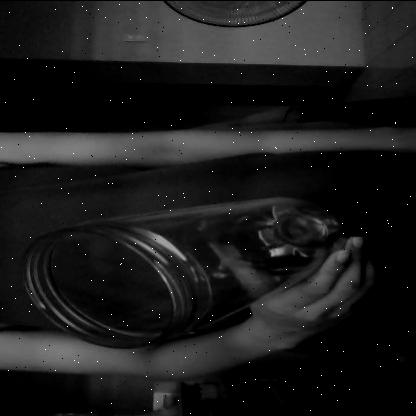Plastic Bottle: (16, 197, 350, 349)
